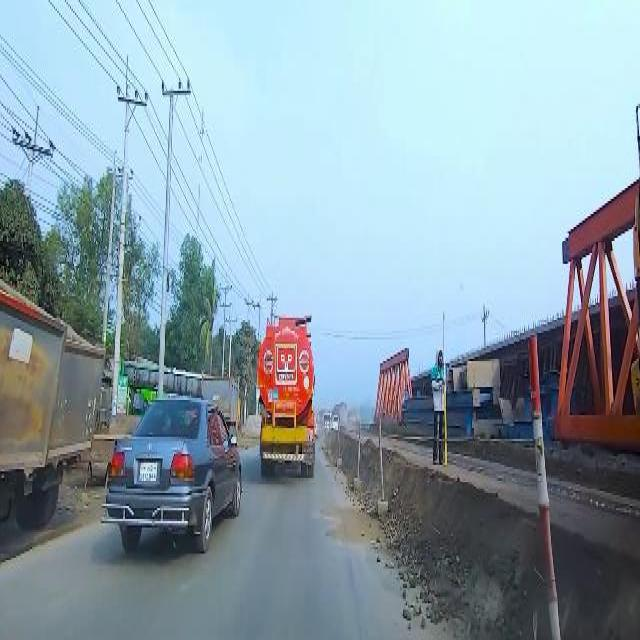vehicle: (3, 278, 102, 526), (103, 397, 245, 546), (256, 308, 317, 477), (123, 356, 200, 395), (339, 400, 348, 426), (324, 410, 331, 429), (332, 412, 338, 427)
